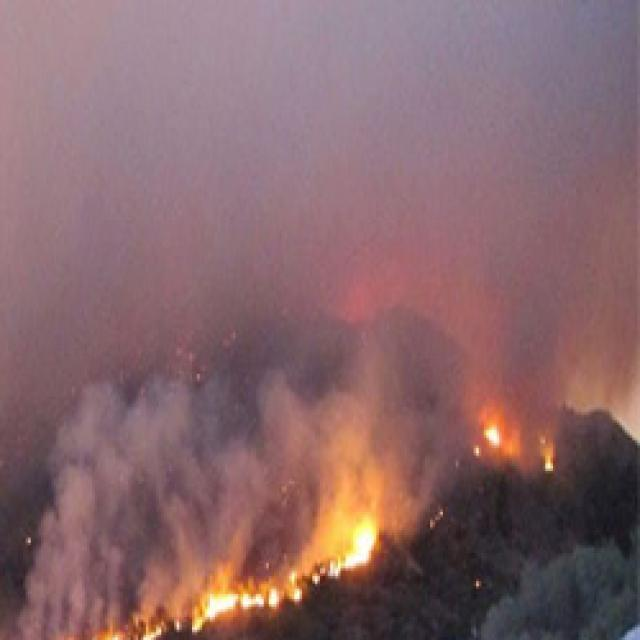Fire: (201, 569, 304, 624), (312, 520, 378, 590), (471, 418, 518, 461), (100, 622, 198, 640), (538, 438, 554, 471)
Smoke: (0, 0, 640, 408), (0, 407, 435, 520), (0, 516, 194, 617)
